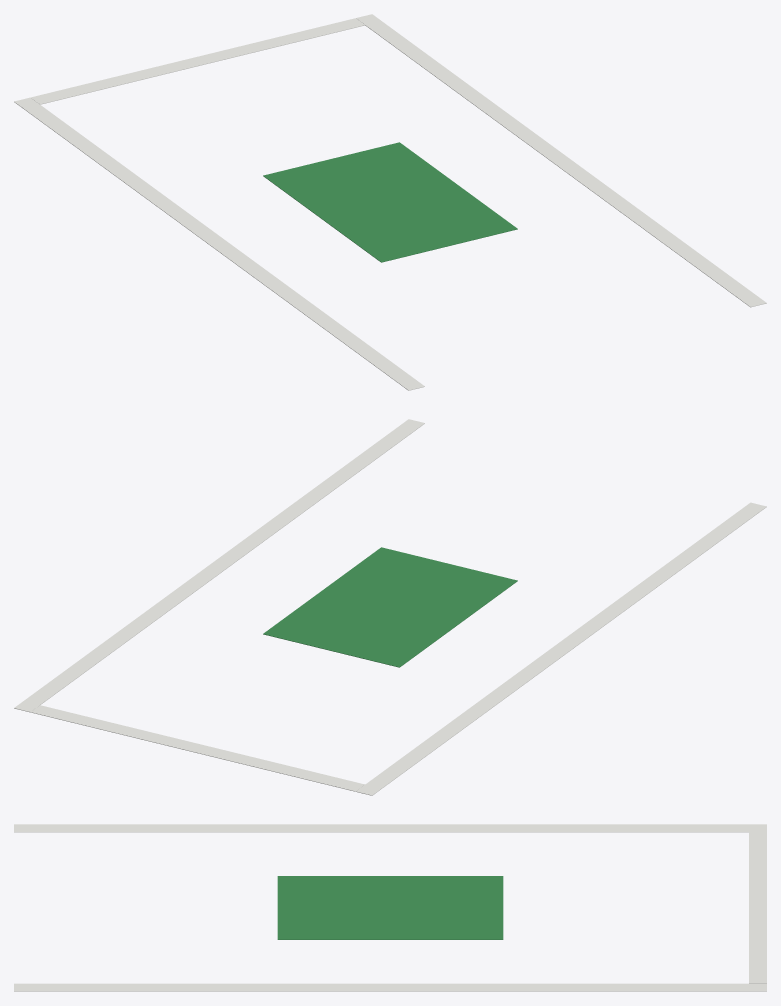
3 views of the same model, one above another, from view 1: azimuth 30°, elevation 25°; view 2: azimuth 150°, elevation 25°; view 3: azimuth 270°, elevation 25° (orthographic). The views are drawn at different scales.
Parts seen in each view (by area): view 1: accessible=false;bayNumber=;ev=true;length=5;lineWidth=0.12; (×2); view 2: accessible=false;bayNumber=;ev=true;length=5;lineWidth=0.12; (×2); view 3: accessible=false;bayNumber=;ev=true;length=5;lineWidth=0.12; (×2).
Boxes of the visible parts, box(x1,y1,x2,y2) form: accessible=false;bayNumber=;ev=true;length=5;lineWidth=0.12; (×2): box(14, 14, 766, 390); accessible=false;bayNumber=;ev=true;length=5;lineWidth=0.12; (×2): box(14, 419, 766, 795); accessible=false;bayNumber=;ev=true;length=5;lineWidth=0.12; (×2): box(14, 824, 766, 991).
Bounding box in the file's own units: 2.62 × 5 × 0.003.
